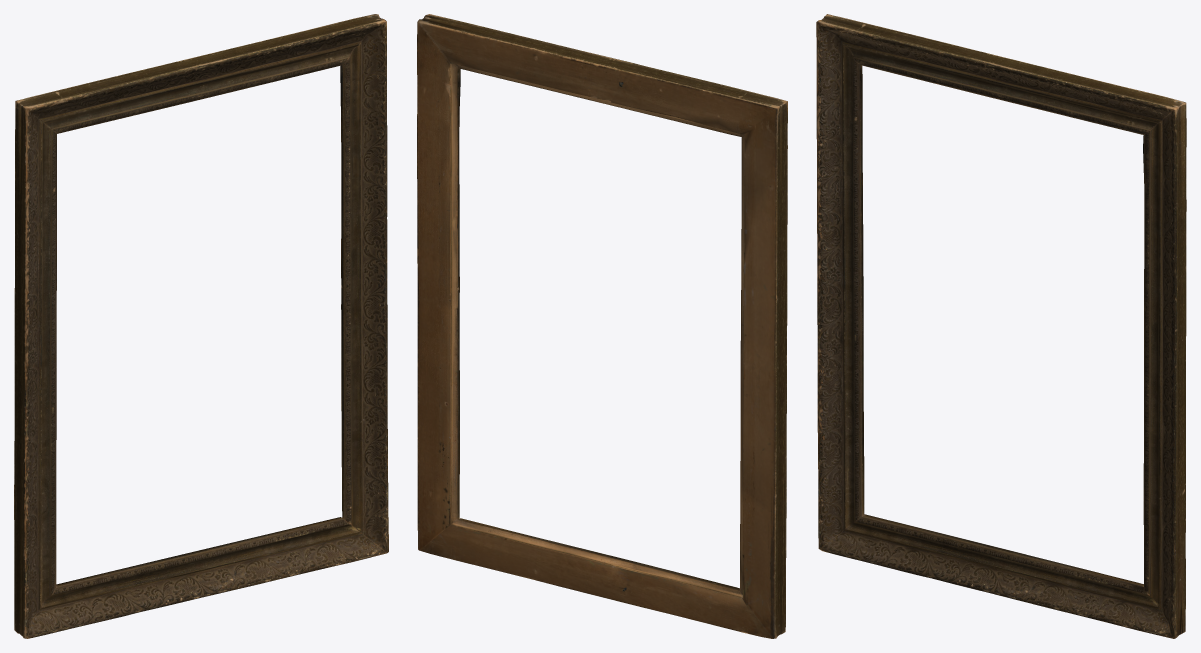
3 views of the same model, side by side, from view 1: azimuth 30°, elevation 25°; view 2: azimuth 150°, elevation 25°; view 3: azimuth 330°, elevation 25° (orthographic).
Parts seen in each view (by area): view 1: ukkpdhqbw_LOD0_TIER2_000; view 2: ukkpdhqbw_LOD0_TIER2_000; view 3: ukkpdhqbw_LOD0_TIER2_000.
Boxes of the visible parts, x1,y1,x2,y2 form: ukkpdhqbw_LOD0_TIER2_000: (14, 14, 388, 638); ukkpdhqbw_LOD0_TIER2_000: (417, 14, 787, 638); ukkpdhqbw_LOD0_TIER2_000: (816, 14, 1186, 638).
Bounding box in the file's own units: 0.6422 × 0.9021 × 0.0472.
Materials: 1 (1 with a texture image).
